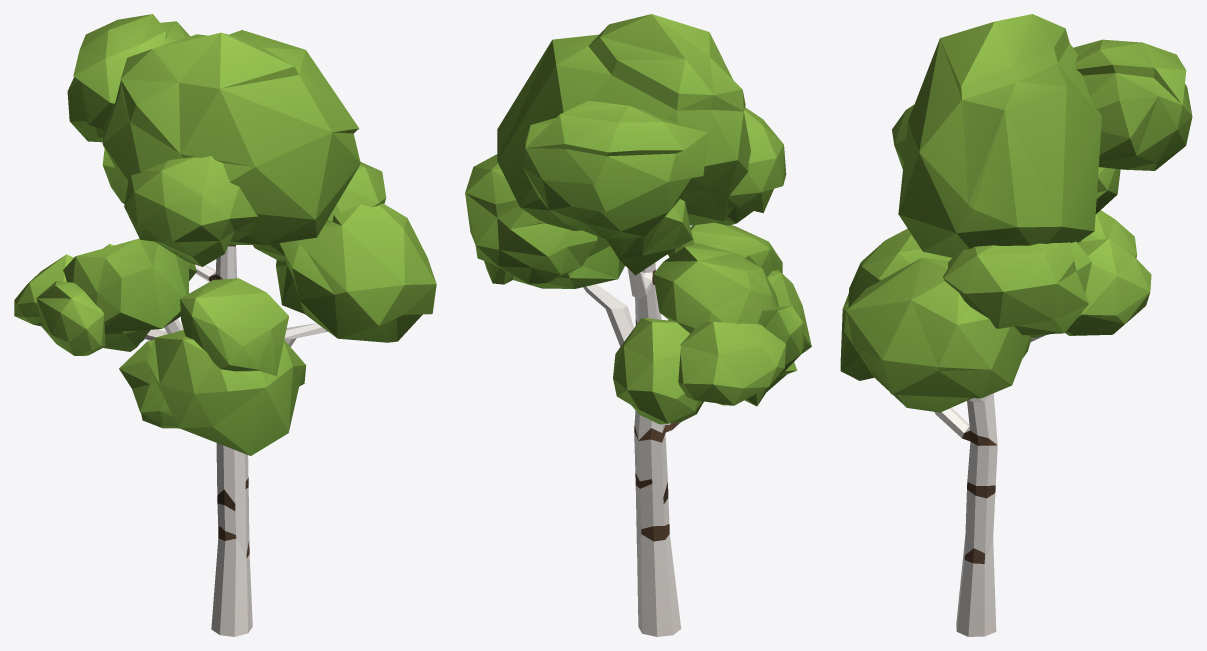
File: Birch2.obj
3 views of the same model, side by side, from view 1: azimuth 30°, elevation 25°; view 2: azimuth 150°, elevation 25°; view 3: azimuth 270°, elevation 25° (orthographic). The views are drawn at different scales.
Visible parts, largest first — view 1: PP_Birch_Tree_05; view 2: PP_Birch_Tree_05; view 3: PP_Birch_Tree_05.
Part boxes in pixels (x1,y1,x2,y2): PP_Birch_Tree_05: (14,14,436,636); PP_Birch_Tree_05: (465,14,811,636); PP_Birch_Tree_05: (840,14,1192,636).
Size of the model in its own units: 4.99 by 8.25 by 4.34.
1 material, 1 textured.
